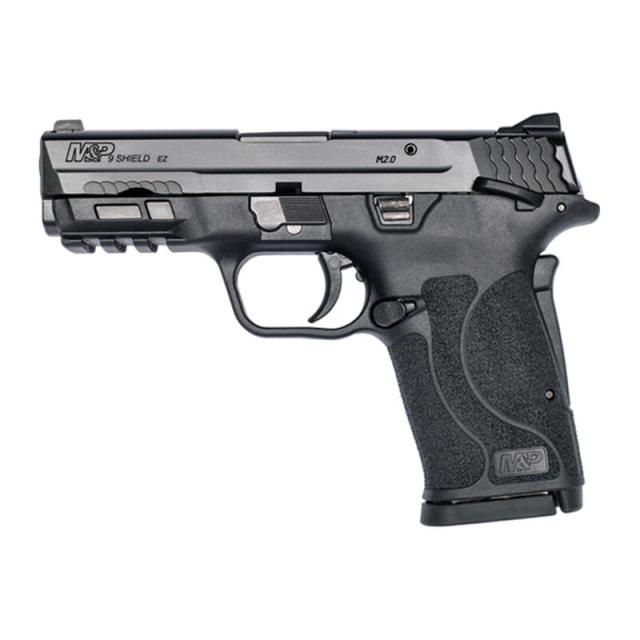HandGun: (37, 113, 602, 530)
